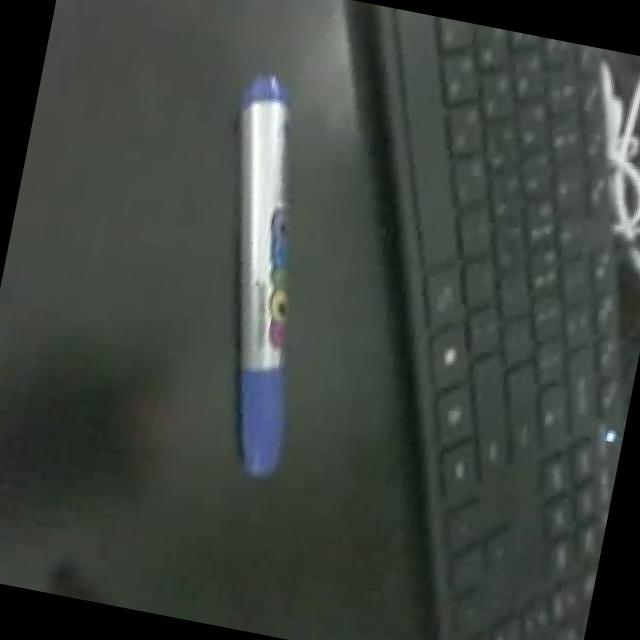board-marker: (236, 75, 289, 475)
